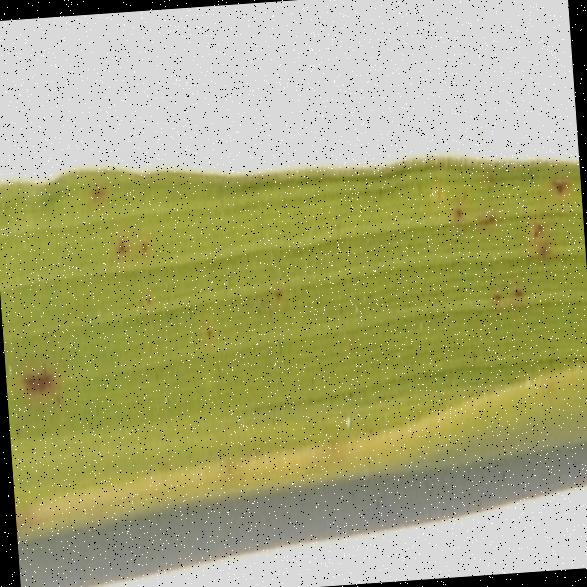Brown_Spot: (423, 76, 584, 326), (106, 212, 166, 311), (12, 348, 64, 411)
